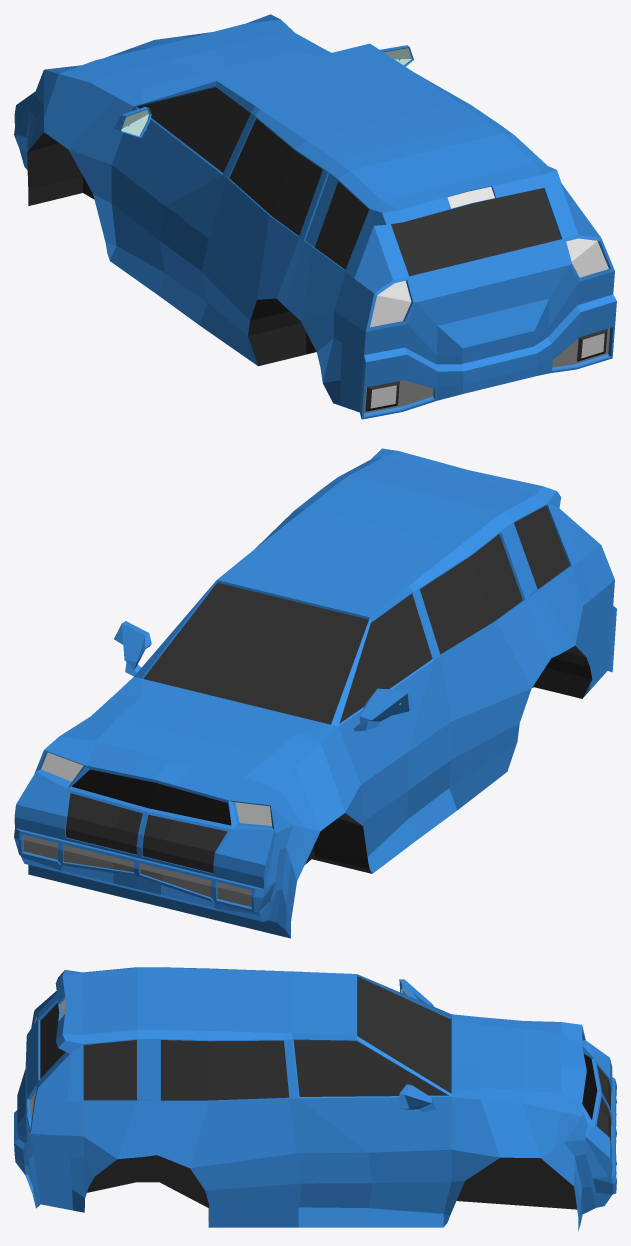
Rendered from firstSUV.fbx.
The picture shows the model from 3 angles, top to bottom: view 1: azimuth 30°, elevation 25°; view 2: azimuth 150°, elevation 25°; view 3: azimuth 270°, elevation 25°; orthographic projection. The views are drawn at different scales.
Parts seen in each view (by area): view 1: Car; view 2: Car; view 3: Car.
Boxes of the visible parts, x1=… form: Car: x1=14, y1=14, x2=616, y2=419; Car: x1=14, y1=448, x2=616, y2=938; Car: x1=14, y1=967, x2=616, y2=1231.
Size of the model in its own units: 482 by 339 by 1029.
